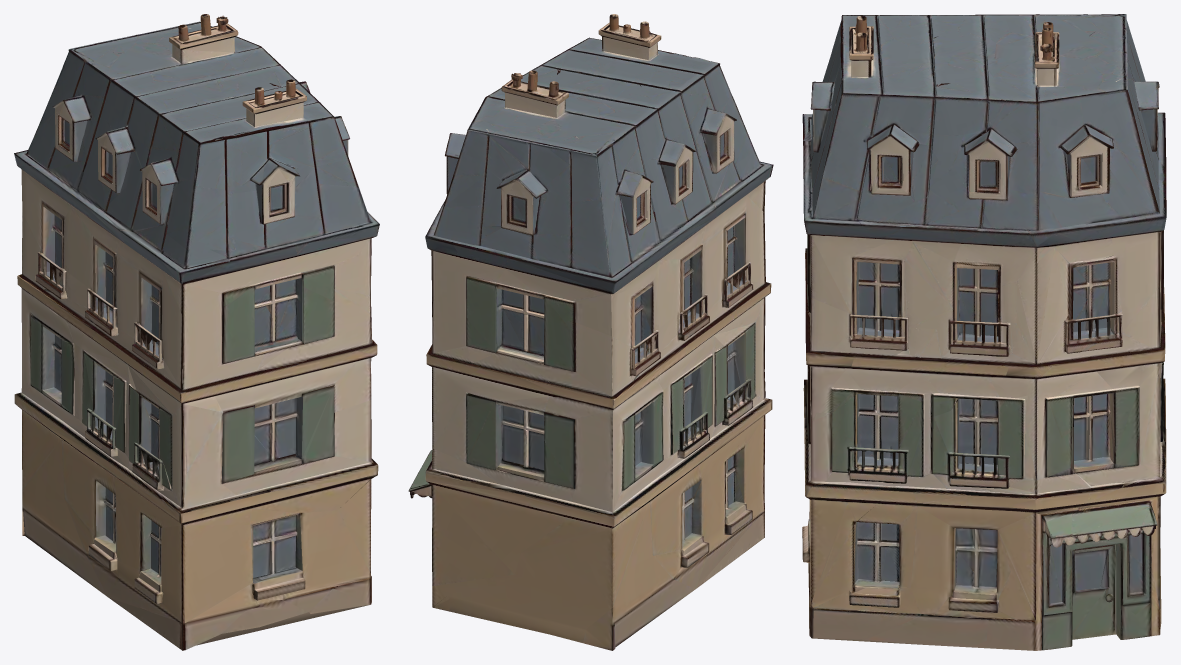
Rendered from building3_meshopt.glb.
3 renders of one model, left to right at view 1: azimuth 30°, elevation 25°; view 2: azimuth 150°, elevation 25°; view 3: azimuth 270°, elevation 25°, orthographic. The views are drawn at different scales.
Visible parts, largest first — view 1: output_unwrapped; view 2: output_unwrapped; view 3: output_unwrapped.
Boxes of the visible parts, box(x1,y1,x2,y2) form: output_unwrapped: box(14, 14, 379, 650); output_unwrapped: box(408, 14, 773, 650); output_unwrapped: box(802, 14, 1166, 650).
Bounding box in the file's own units: 0.9615 × 2 × 1.14.
1 material, 1 textured.
